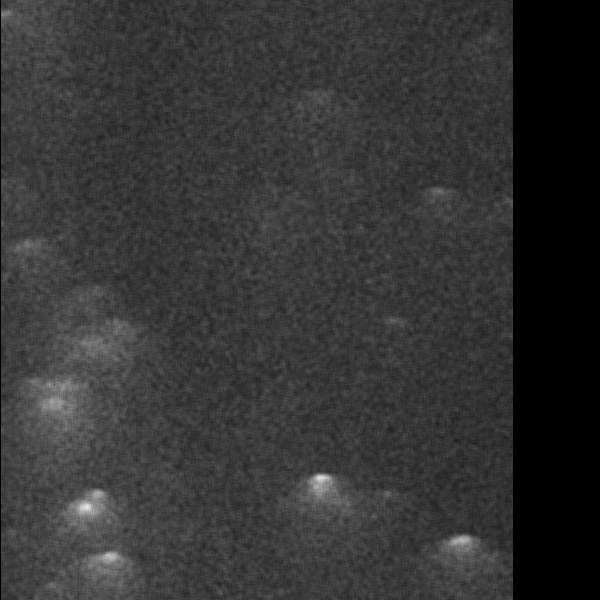spark: (468, 109, 506, 152)
